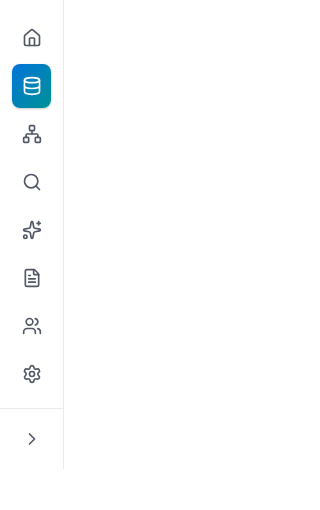
Scenario: Sidebar accessibility › exposes the nav links outside any button, with one labelled toggle
Click the button.
click(32, 439)  # box x1=12 y1=421 x2=51 y2=457
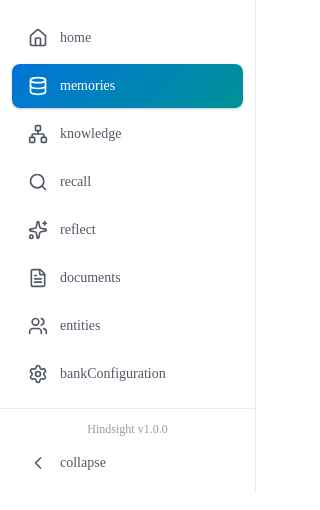
Expected: the button is expanded, x1=12 y1=445 x2=243 y2=481
